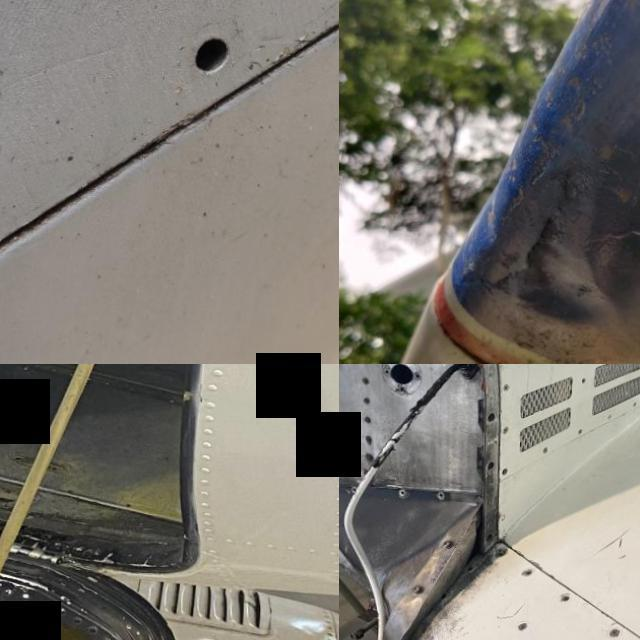Dent: (482, 185, 640, 351)
Missing_Fastener: (158, 0, 274, 108), (526, 568, 540, 578), (563, 595, 577, 605), (582, 378, 590, 386)
